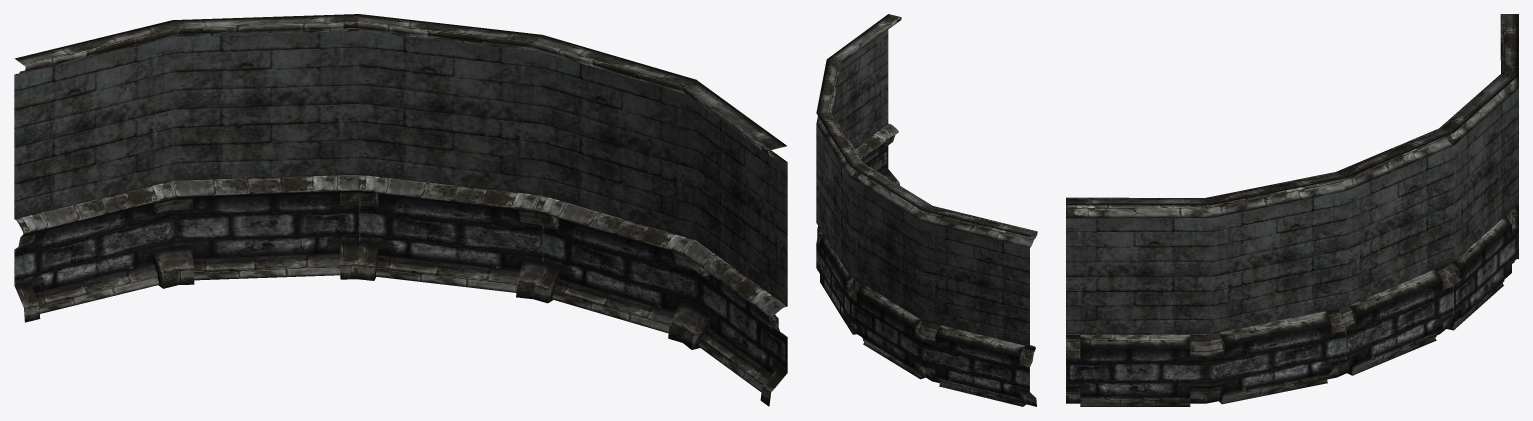
Rendered from corner_concave_round_stairs_alt.dae.
3 views of the same model, side by side, from view 1: azimuth 30°, elevation 25°; view 2: azimuth 150°, elevation 25°; view 3: azimuth 270°, elevation 25° (orthographic). The views are drawn at different scales.
Parts seen in each view (by area): view 1: polySurface115; view 2: polySurface115; view 3: polySurface115.
Boxes of the visible parts, x1,y1,x2,y2 form: polySurface115: [14, 14, 787, 406]; polySurface115: [816, 14, 1037, 406]; polySurface115: [1066, 14, 1518, 406].
Size of the model in its own units: 8 by 4 by 8.
